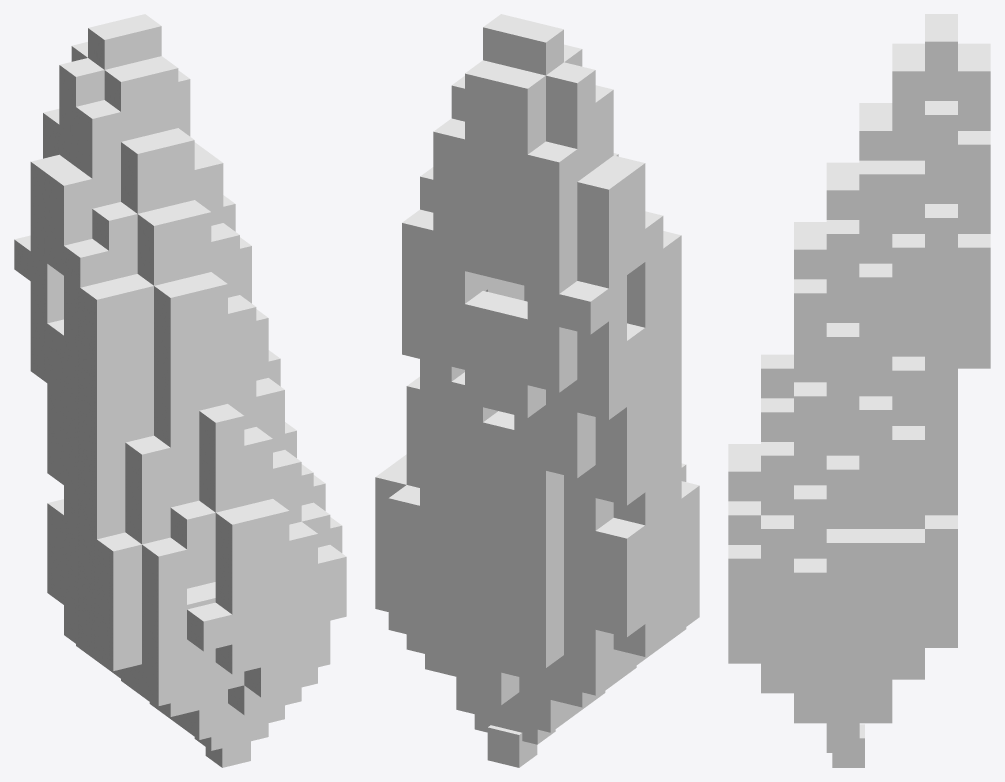
File: voxel01_optimized.fbx
3 views of the same model, side by side, from view 1: azimuth 30°, elevation 25°; view 2: azimuth 150°, elevation 25°; view 3: azimuth 270°, elevation 25° (orthographic). The views are drawn at different scales.
Parts seen in each view (by area): view 1: voxelize; view 2: voxelize; view 3: voxelize.
Part boxes in pixels (left/top/right/bottom): voxelize: left=14, top=14, right=346, bottom=767; voxelize: left=375, top=14, right=699, bottom=767; voxelize: left=728, top=14, right=990, bottom=767.
Size of the model in its own units: 0.96 by 2.85 by 0.96.
